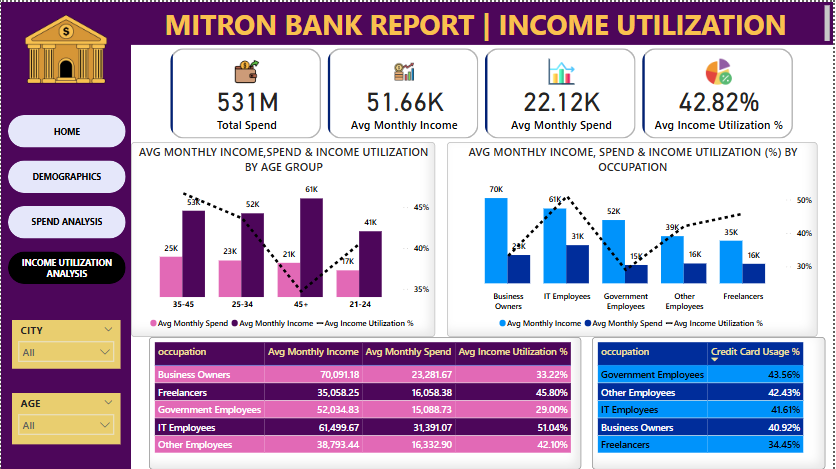

The page's visual inventory and layout, read from the dashboard file:
{"tool":"powerbi","page":{"name":"INCOME UTILIZATION ANALYSIS","canvas":[1280,720],"ordinal":3},"visuals":[{"type":"shape","box":[0,0,1280.2,66.2],"z":0},{"type":"shape","box":[0,0,200.2,720],"z":1000},{"type":"image","box":[0,0,200.2,158.4],"z":2000},{"type":"textbox","box":[200.2,0,1080,66.2],"z":3000},{"type":"cardVisual","fields":{"Data":["spends.Total Spend","spends.Avg Monthly Income","spends.Avg Monthly Spend","customer.Avg Income Utilization %"]},"box":[254.9,66.2,969.1,149.8],"z":4000},{"type":"lineClusteredColumnComboChart","title":"AVG MONTHLY INCOME, SPEND & INCOME UTILIZATION (%) BY OCCUPATION","fields":{"Category":["customer.occupation"],"Y":["spends.Avg Monthly Income","spends.Avg Monthly Spend"],"Y2":["customer.Avg Income Utilization %"]},"box":[686.9,216,570.2,299.5],"z":5000},{"type":"lineClusteredColumnComboChart","title":"AVG MONTHLY INCOME,SPEND & INCOME UTILIZATION BY AGE GROUP","fields":{"Category":["customer.age_group"],"Y":["spends.Avg Monthly Spend","spends.Avg Monthly Income"],"Y2":["customer.Avg Income Utilization %"]},"box":[200.2,216,468,299.5],"z":6000},{"type":"tableEx","fields":{"Values":["customer.occupation","customer.Credit Card Usage %"]},"box":[908.6,515.5,358.6,204.5],"z":7000},{"type":"tableEx","fields":{"Values":["customer.occupation","spends.Avg Monthly Income","spends.Avg Monthly Spend","customer.Avg Income Utilization %"]},"box":[227.5,515.5,665.3,204.5],"z":8000},{"type":"pageNavigator","box":[10.1,174.2,181.4,260.6],"z":9000},{"type":"slicer","fields":{"Values":["customer.city"]},"box":[17.3,489.6,167,74.9],"z":10000},{"type":"slicer","fields":{"Values":["customer.age_group"]},"box":[17.3,601.9,167,79.2],"z":11000}]}

Visuals, with their boxes in screenshot pixels (x1, y1, x2, y2), scaled from the page's 1280x720 canvas onto the 836x469 screenshot:
shape: {"left": 0, "top": 0, "right": 835, "bottom": 43}
shape: {"left": 0, "top": 0, "right": 131, "bottom": 468}
image: {"left": 0, "top": 0, "right": 131, "bottom": 103}
textbox: {"left": 131, "top": 0, "right": 835, "bottom": 43}
cardVisual - spends.Total Spend x spends.Avg Monthly Income: {"left": 166, "top": 43, "right": 799, "bottom": 141}
"AVG MONTHLY INCOME, SPEND & INCOME UTILIZATION (%) BY OCCUPATION" lineClusteredColumnComboChart: {"left": 449, "top": 141, "right": 821, "bottom": 336}
"AVG MONTHLY INCOME,SPEND & INCOME UTILIZATION BY AGE GROUP" lineClusteredColumnComboChart: {"left": 131, "top": 141, "right": 436, "bottom": 336}
tableEx - customer.occupation x customer.Credit Card Usage %: {"left": 593, "top": 336, "right": 828, "bottom": 468}
tableEx - customer.occupation x spends.Avg Monthly Income: {"left": 149, "top": 336, "right": 583, "bottom": 468}
pageNavigator: {"left": 7, "top": 113, "right": 125, "bottom": 283}
slicer - customer.city: {"left": 11, "top": 319, "right": 120, "bottom": 368}
slicer - customer.age_group: {"left": 11, "top": 392, "right": 120, "bottom": 444}
